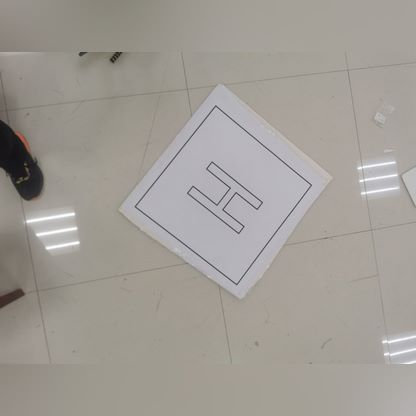H: (135, 101, 309, 282)
